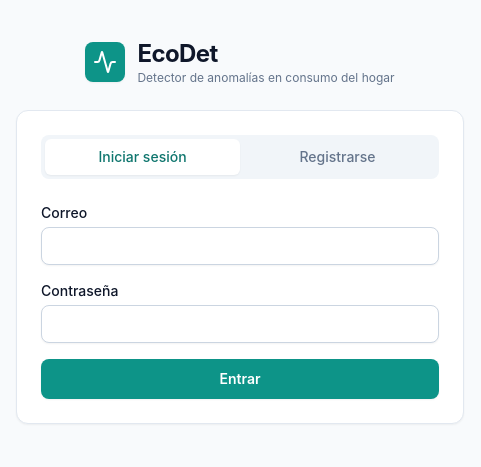
Test: Flujo completo de HU-03 (Iniciar sesión) › criterio 2 · credenciales incorrectas: mensaje genérico y no se entra al panel
Type "laura@correo.com" into the field labelled "Correo".
click(240, 246); type("laura@correo.com")  # box [41,227,439,265]
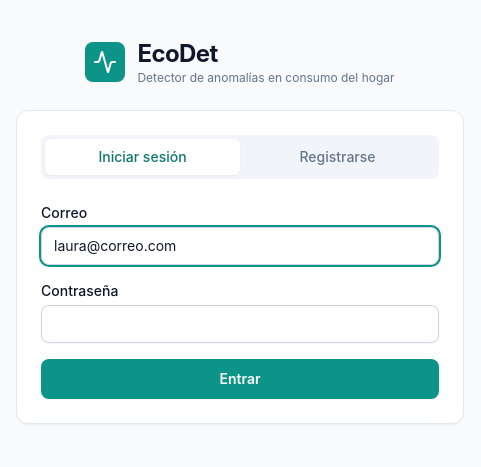
Type "Equivocada1" into the password field labelled "Contraseña".
click(240, 324); type("Equivocada1")  # box [41,305,439,343]
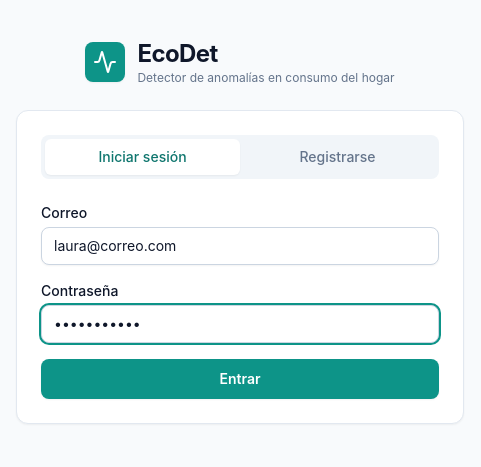
Click the button "Entrar".
click(240, 379)  # box [41,359,439,399]
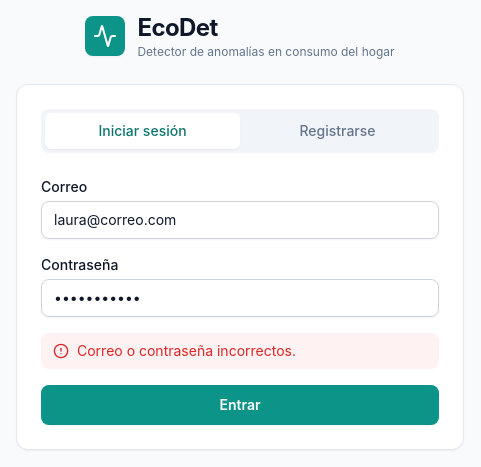
Result: the message reads "Correo o contraseña incorrectos." at [77,342,296,359]
